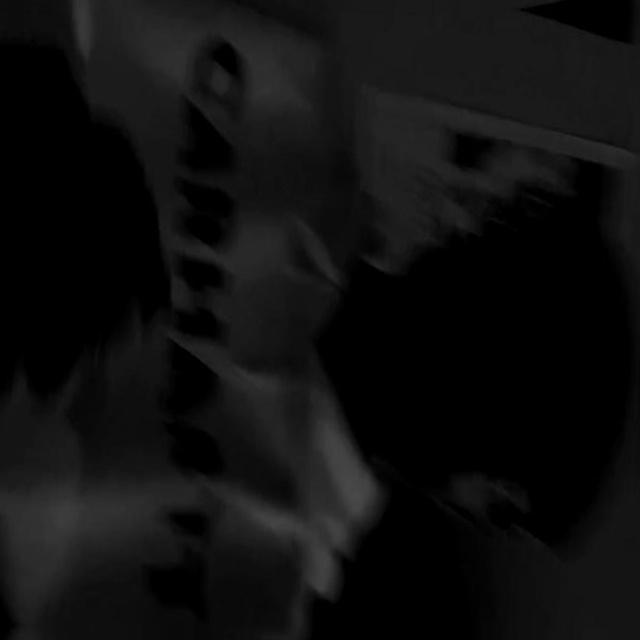Rock: (0, 67, 179, 414)
